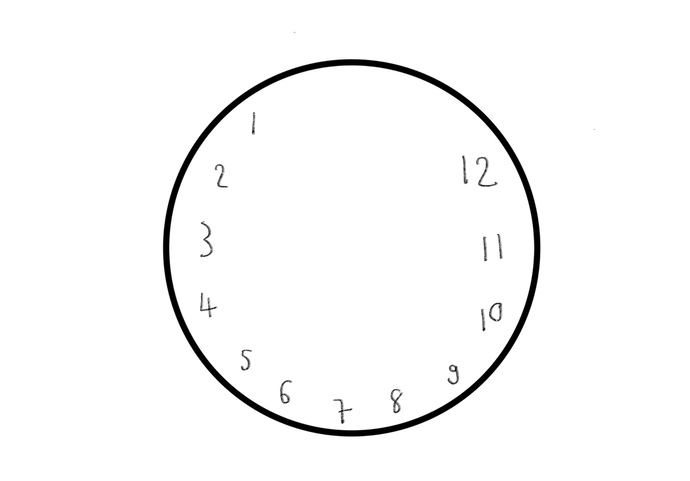eight: (383, 385, 408, 417)
eleven: (478, 229, 506, 263)
five: (236, 347, 258, 374)
four: (192, 285, 222, 323)
nine: (444, 359, 461, 388)
one: (246, 108, 263, 138)
seven: (331, 395, 354, 425)
six: (273, 374, 296, 408)
ten: (477, 300, 506, 333)
three: (196, 218, 216, 257)
twelve: (455, 148, 498, 191)
two: (211, 159, 232, 193)
